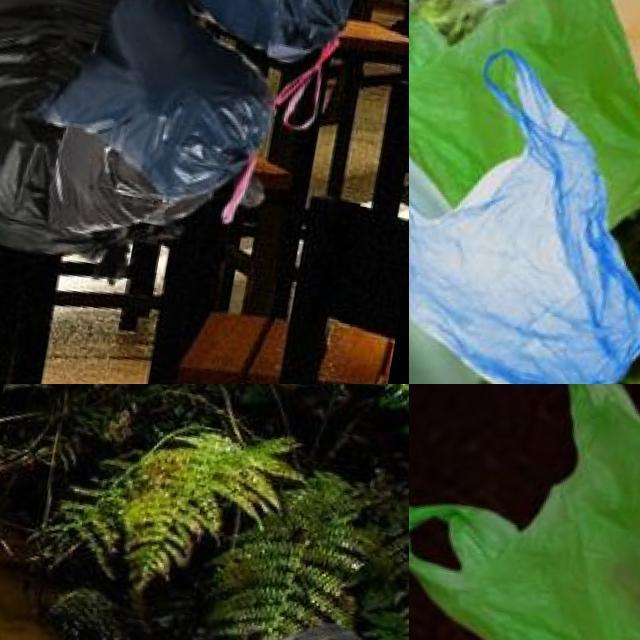waste: (409, 43, 640, 384), (409, 0, 640, 259), (409, 384, 640, 640), (0, 0, 216, 258), (48, 0, 289, 220), (151, 0, 379, 69)
